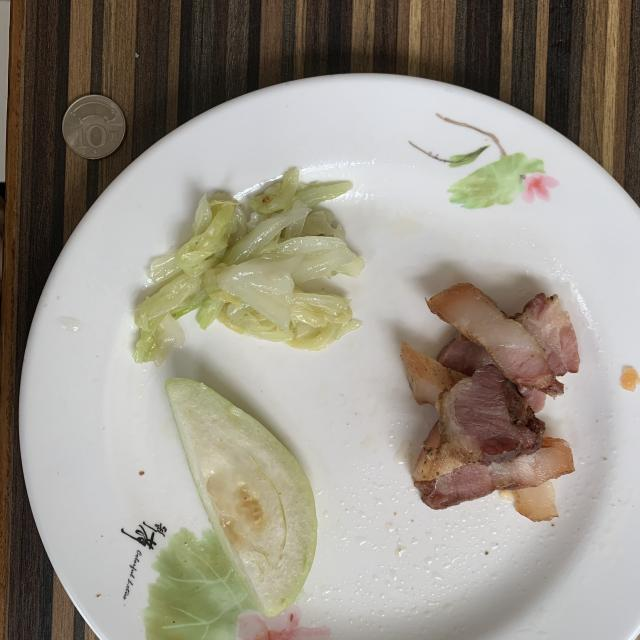cabbage: (135, 169, 365, 364)
coin: (62, 95, 125, 159)
grilled pork: (401, 284, 579, 521)
guava -sliced-: (165, 379, 318, 616)
